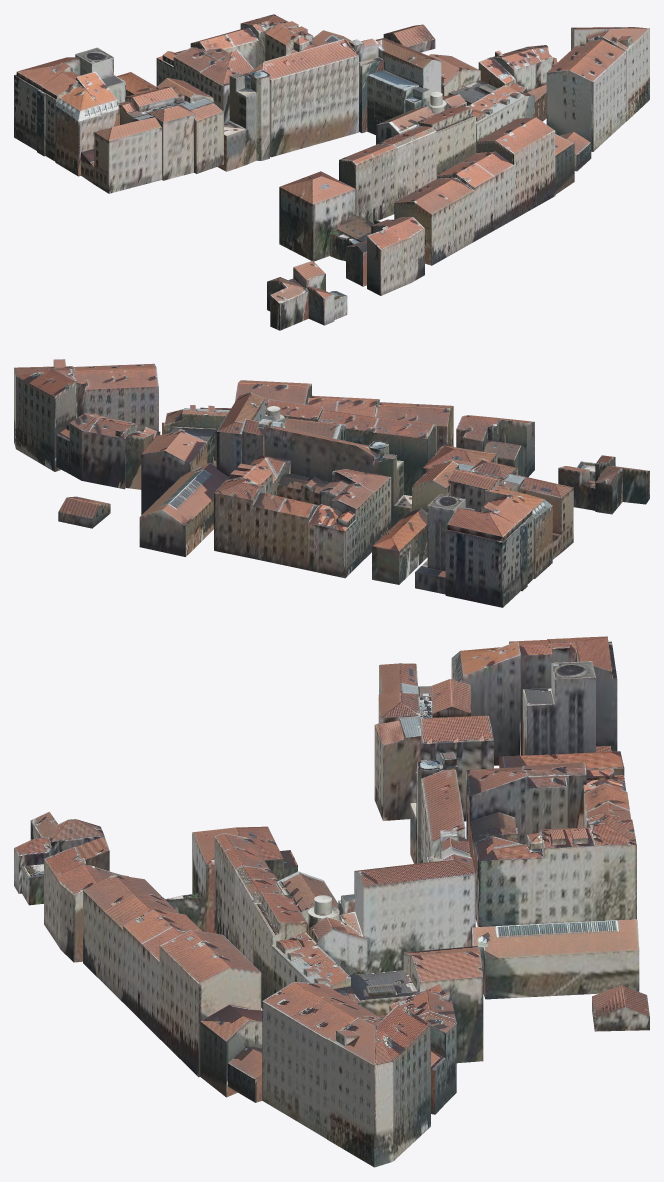
The model's file is LYON_1ER_00138.dae.
3 views of the same model, one above another, from view 1: azimuth 30°, elevation 25°; view 2: azimuth 150°, elevation 25°; view 3: azimuth 270°, elevation 25° (orthographic). The views are drawn at different scales.
Bounding box in the file's own units: 195 × 136 × 46.43.
2 materials, 2 textured.
